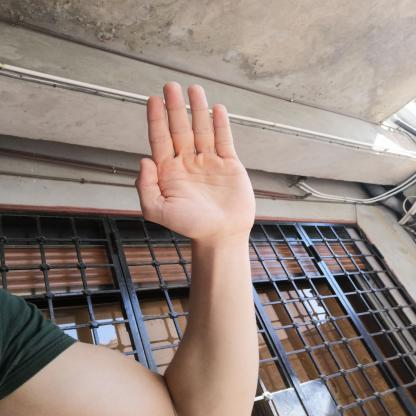SEEN: (120, 72, 267, 251)
